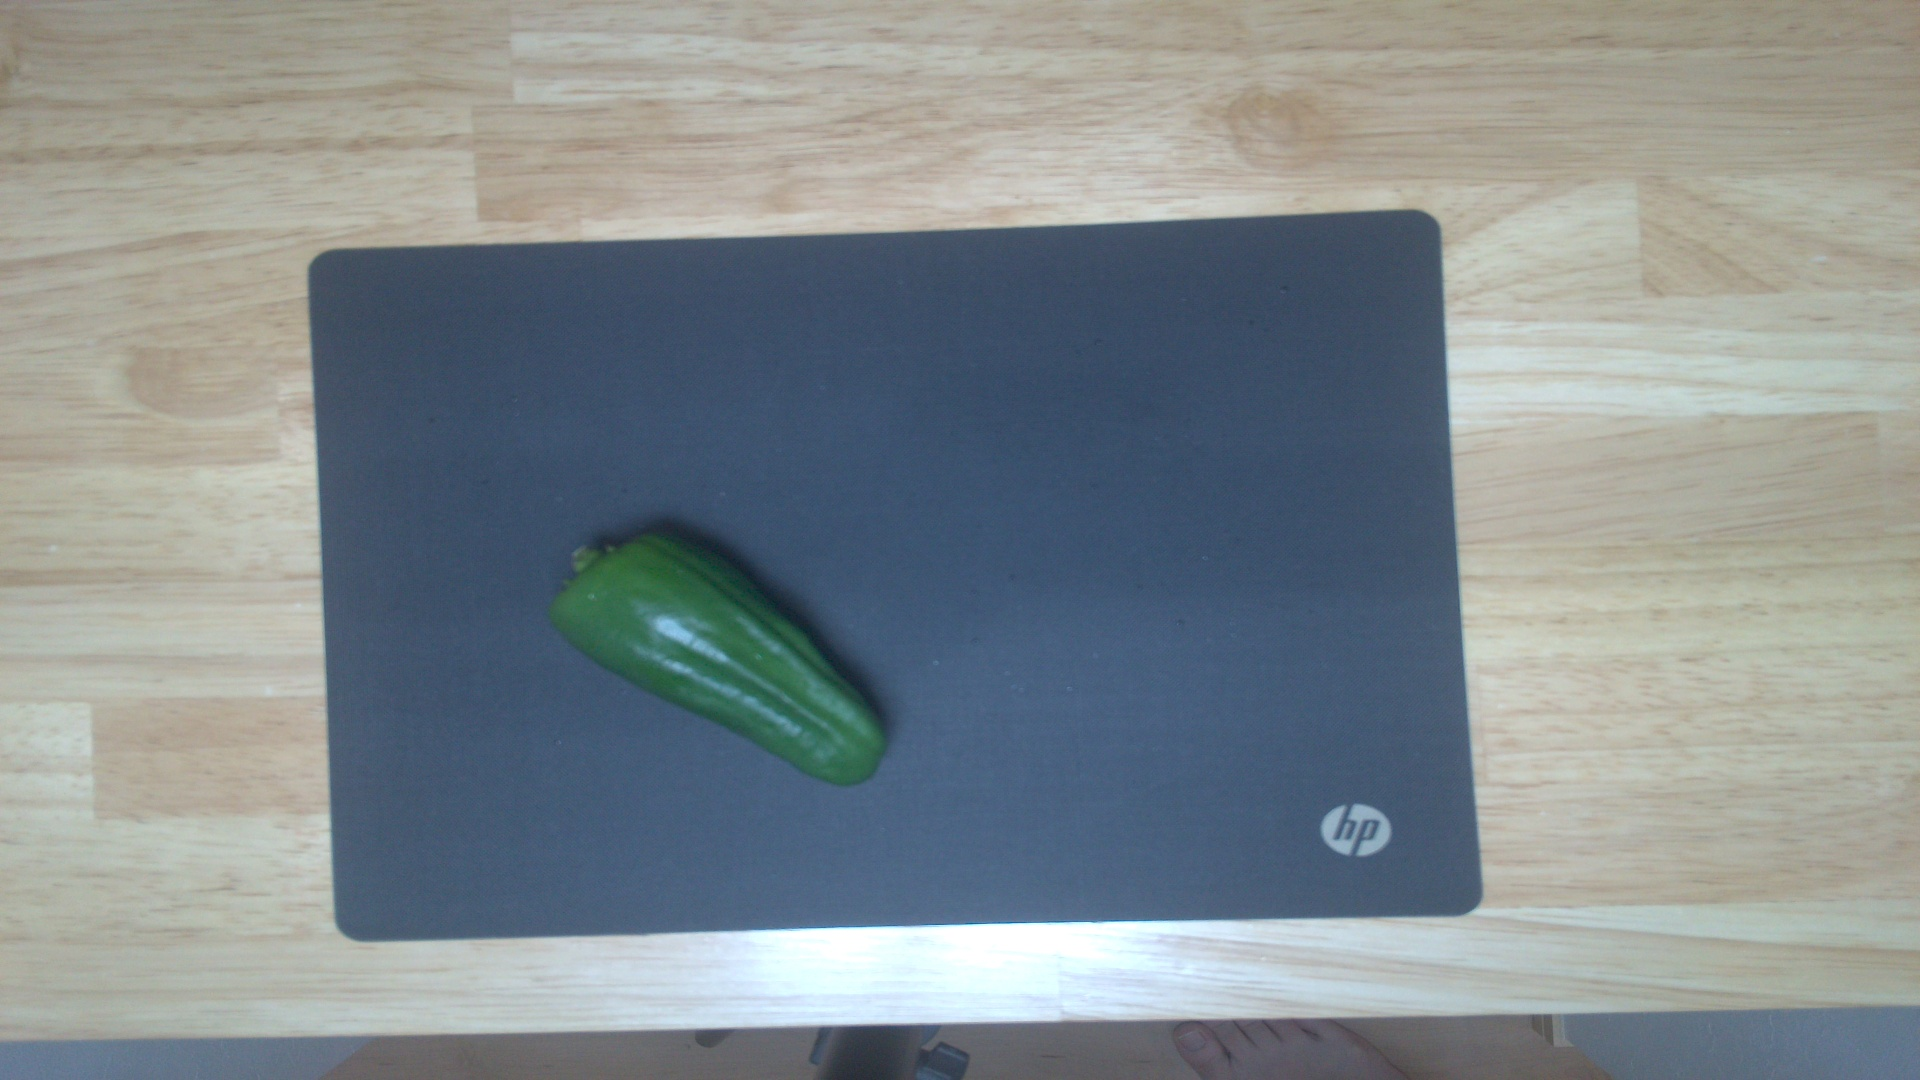Piman: (551, 520, 895, 789)
